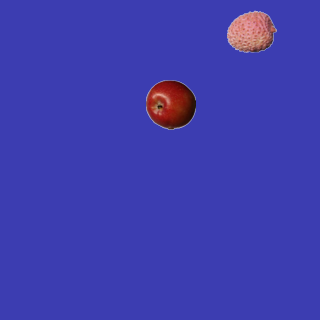Apple Braeburn: (145, 79, 195, 129)
Lychee: (226, 6, 276, 56)
